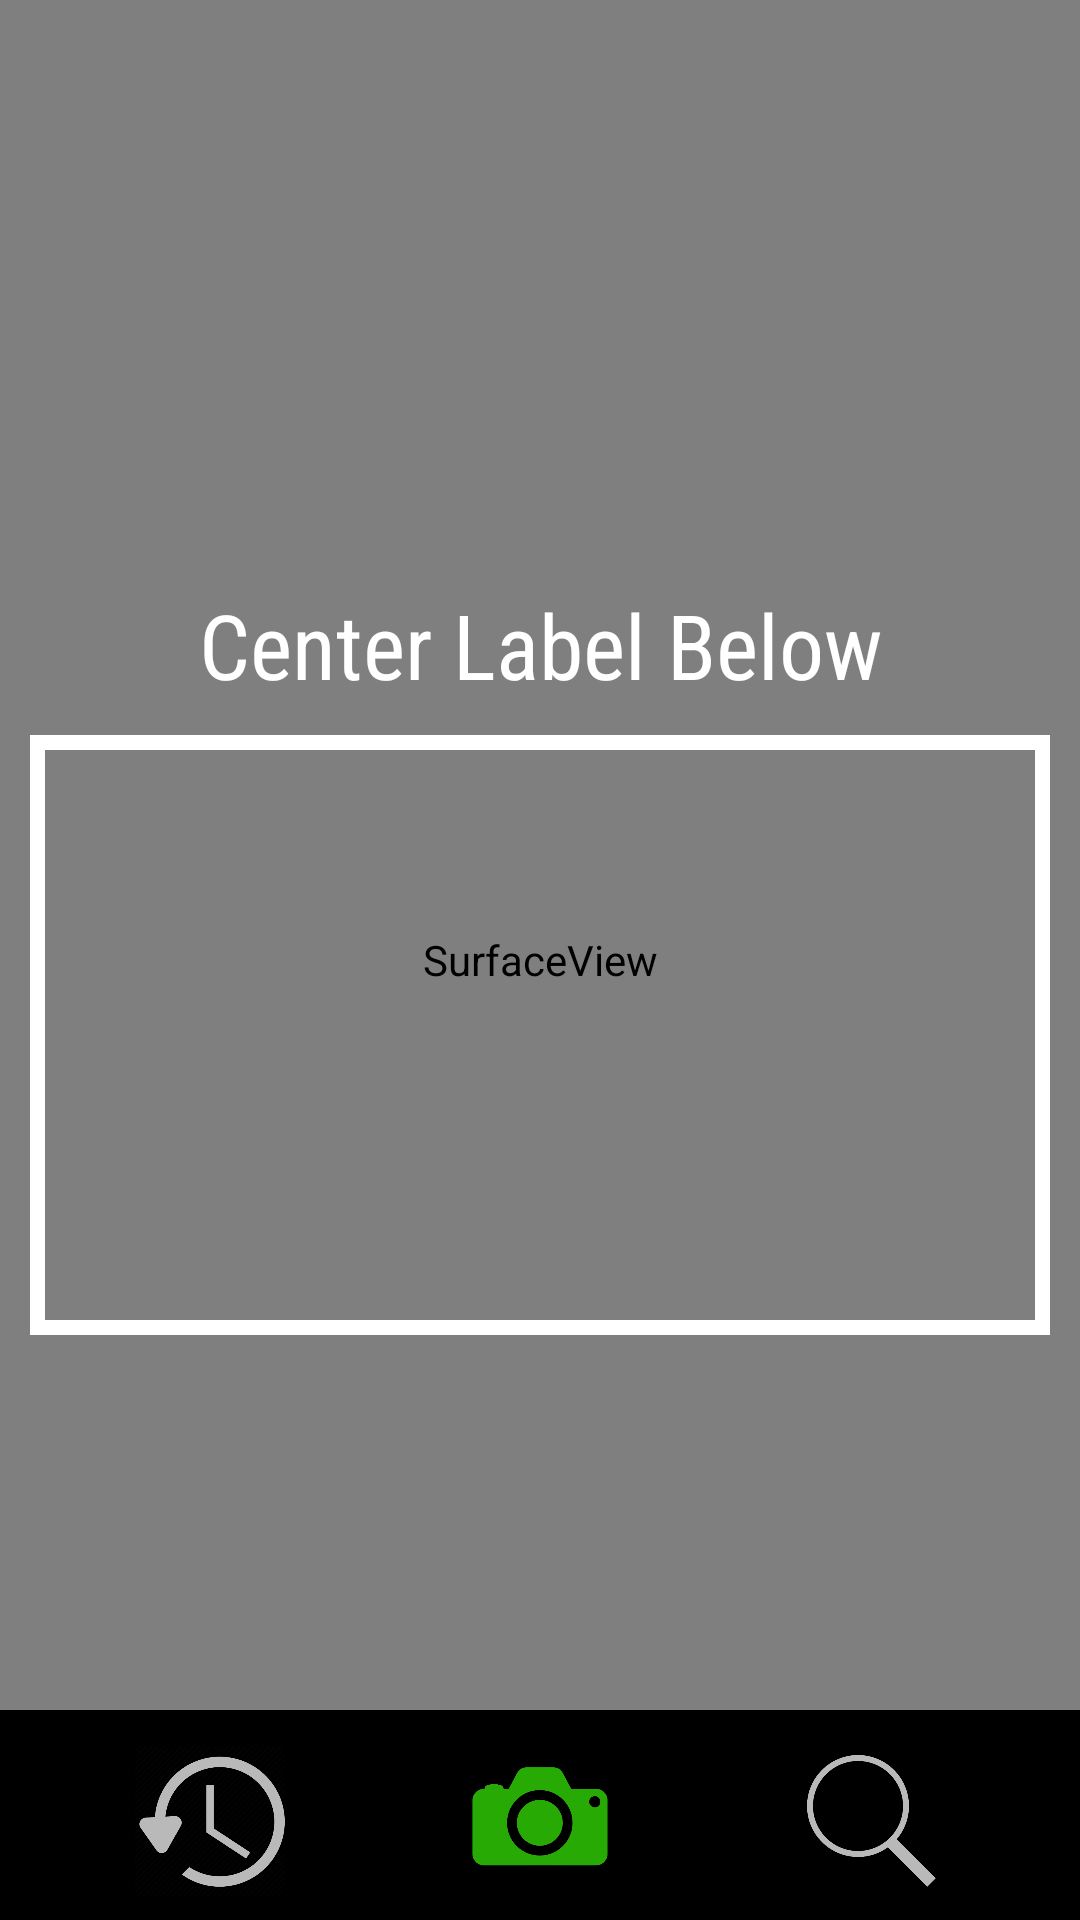

Icon bounding boxes for this 1080px×1920px phone screenshot, format bbox(x1, y1, x2, y2):
camera: bbox(472, 1767, 608, 1866)
history: bbox(139, 1756, 285, 1887)
search: bbox(807, 1755, 936, 1887)
